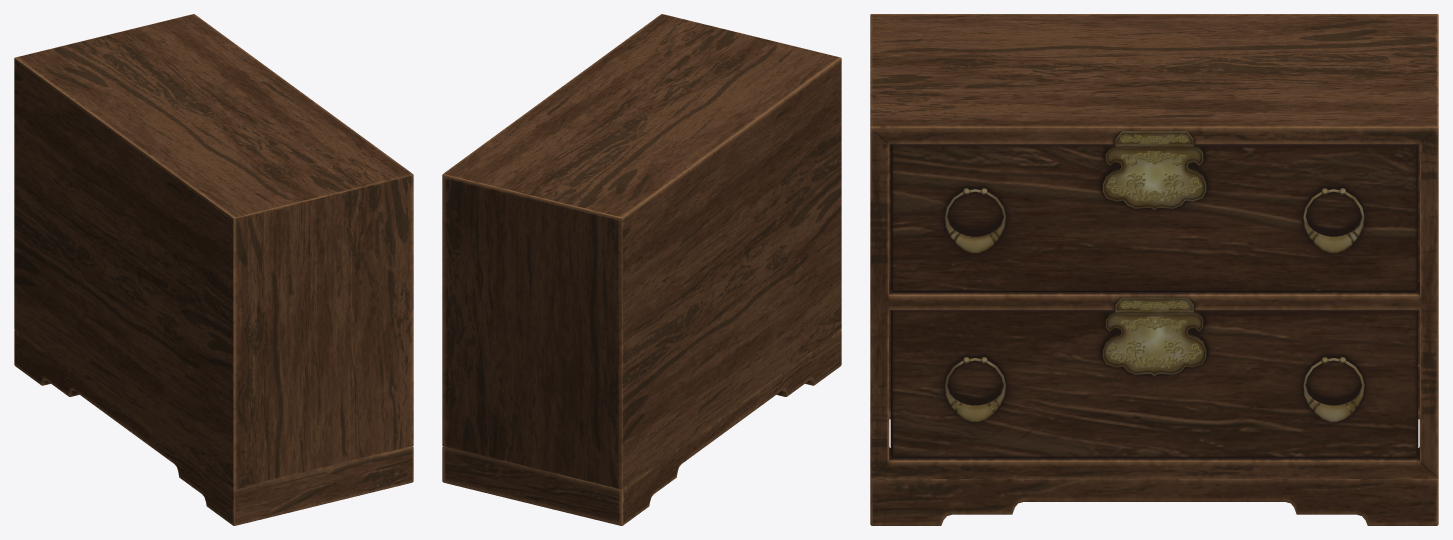
The model's file is TraditionalKoreanHouse_CabinetB.fbx.
3 renders of one model, left to right at view 1: azimuth 30°, elevation 25°; view 2: azimuth 150°, elevation 25°; view 3: azimuth 270°, elevation 25°, orthographic. The views are drawn at different scales.
Visible parts, largest first — view 1: TraditionalKoreanHouse_CabinetB; view 2: TraditionalKoreanHouse_CabinetB; view 3: TraditionalKoreanHouse_CabinetB.
Boxes of the visible parts, left/top/right/bottom form: TraditionalKoreanHouse_CabinetB: left=14, top=14, right=413, bottom=525; TraditionalKoreanHouse_CabinetB: left=442, top=14, right=841, bottom=525; TraditionalKoreanHouse_CabinetB: left=870, top=14, right=1438, bottom=525.
Bounding box in the file's own units: 41.8 × 66.39 × 85.67.
